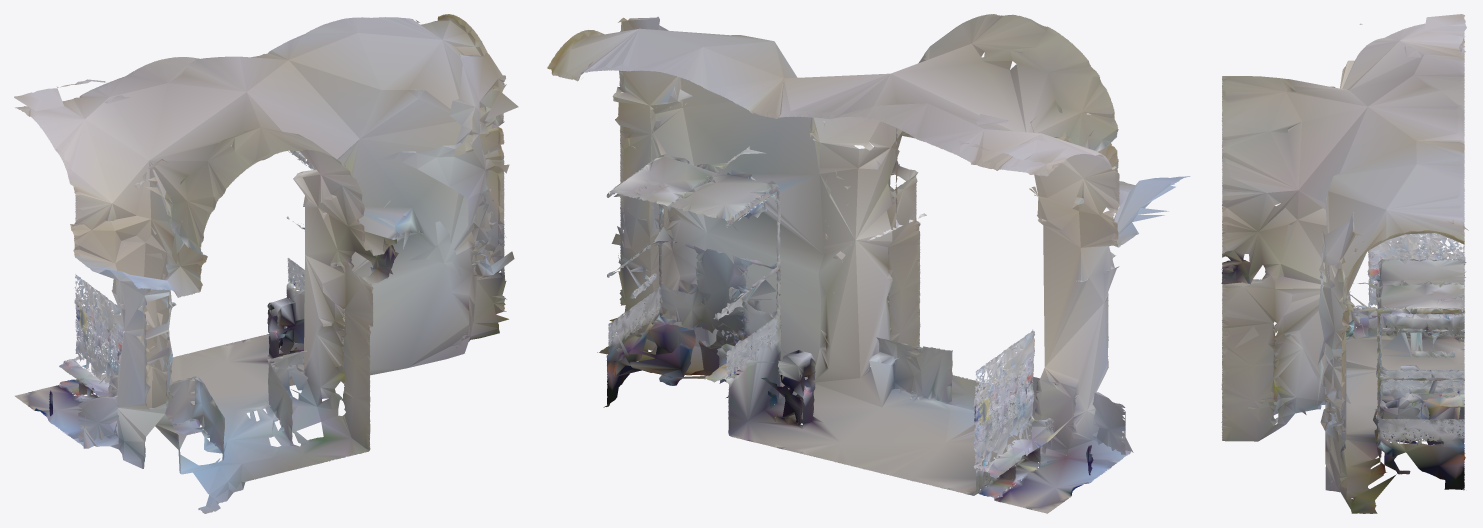
The picture shows the model from 3 angles, left to right: view 1: azimuth 30°, elevation 25°; view 2: azimuth 150°, elevation 25°; view 3: azimuth 270°, elevation 25°; orthographic projection. The views are drawn at different scales.
Size of the model in its own units: 10.68 by 7.8 by 5.12.
